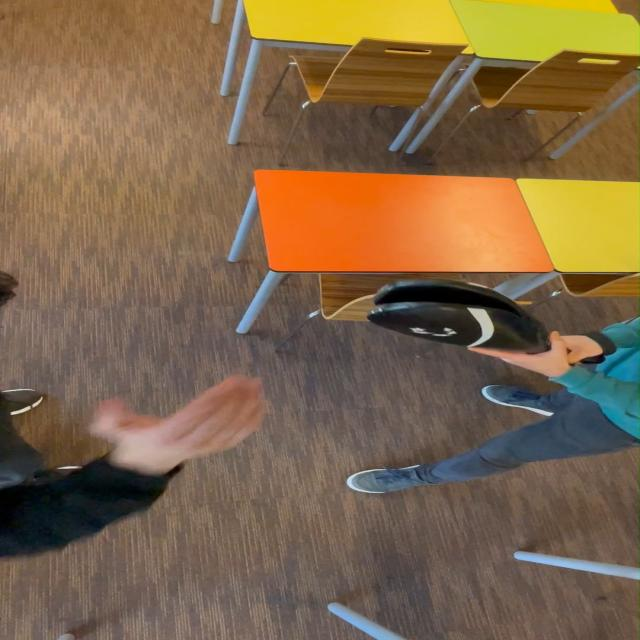paddle: (371, 278, 549, 356)
